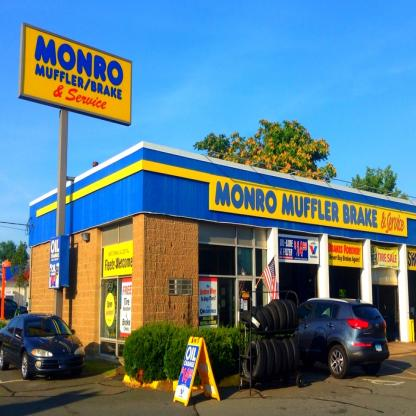Car: (298, 300, 389, 380), (7, 314, 82, 386), (3, 297, 27, 317)
